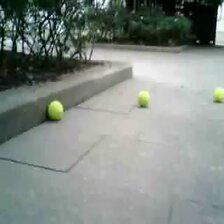tennis: (47, 101, 64, 120), (136, 91, 150, 107), (212, 88, 224, 102)
